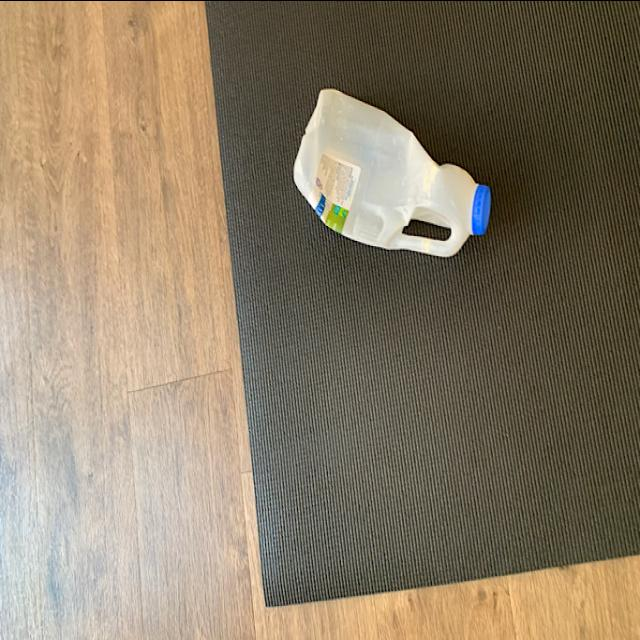HDPEM: (289, 86, 496, 258)
